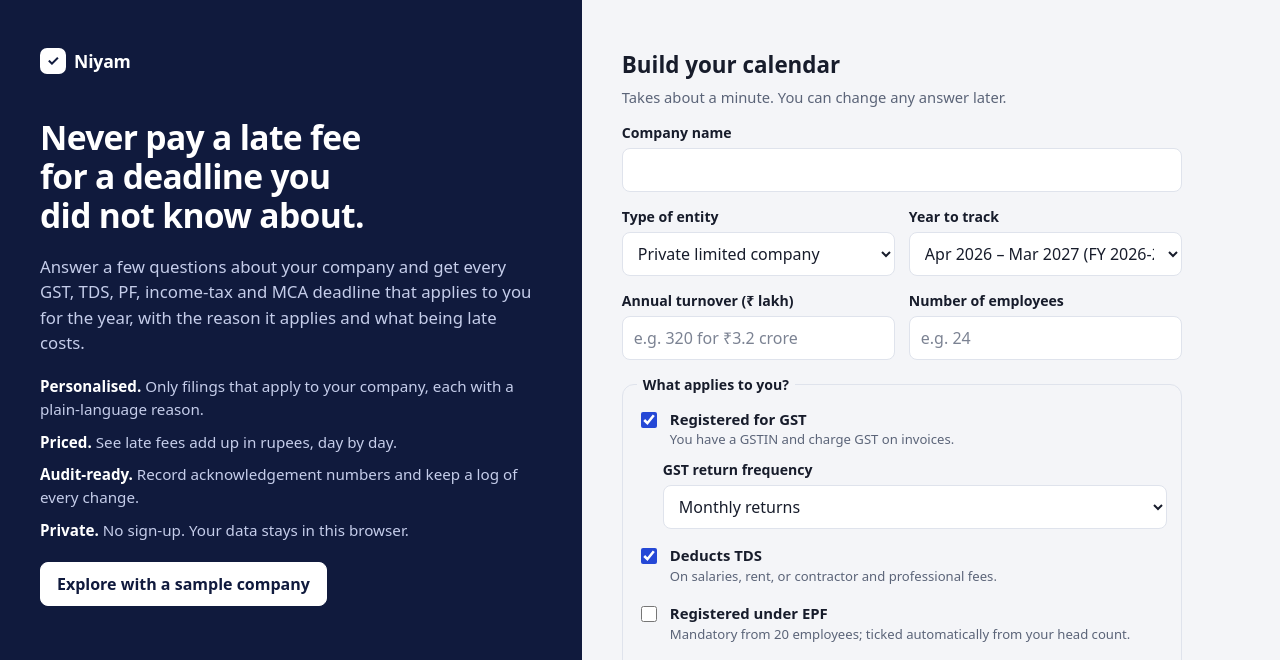
onboarding › shows past deadlines as overdue when the user opts out of backfilling
Type "Acme Pvt Ltd" into the field labelled "Company name" at (902, 170), box top-left (622, 148), bottom-right (1182, 192)
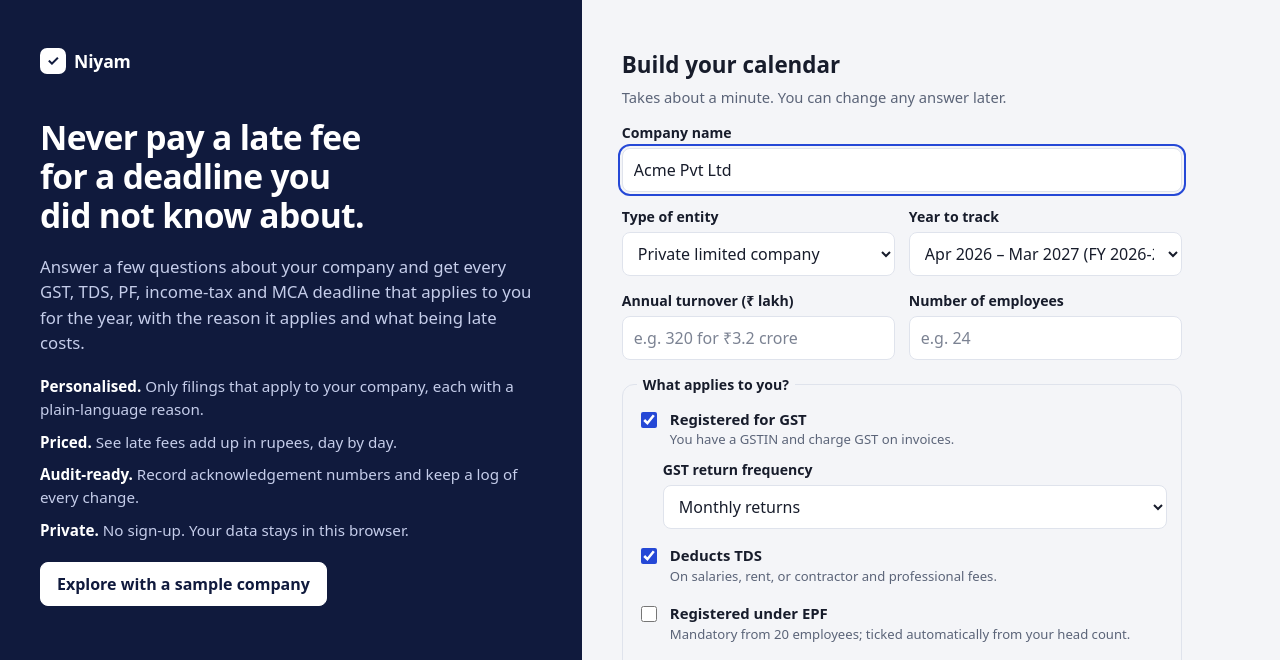
Type "320" into the number field labelled "Annual turnover (₹ lakh)" at (758, 338), box top-left (622, 316), bottom-right (895, 360)
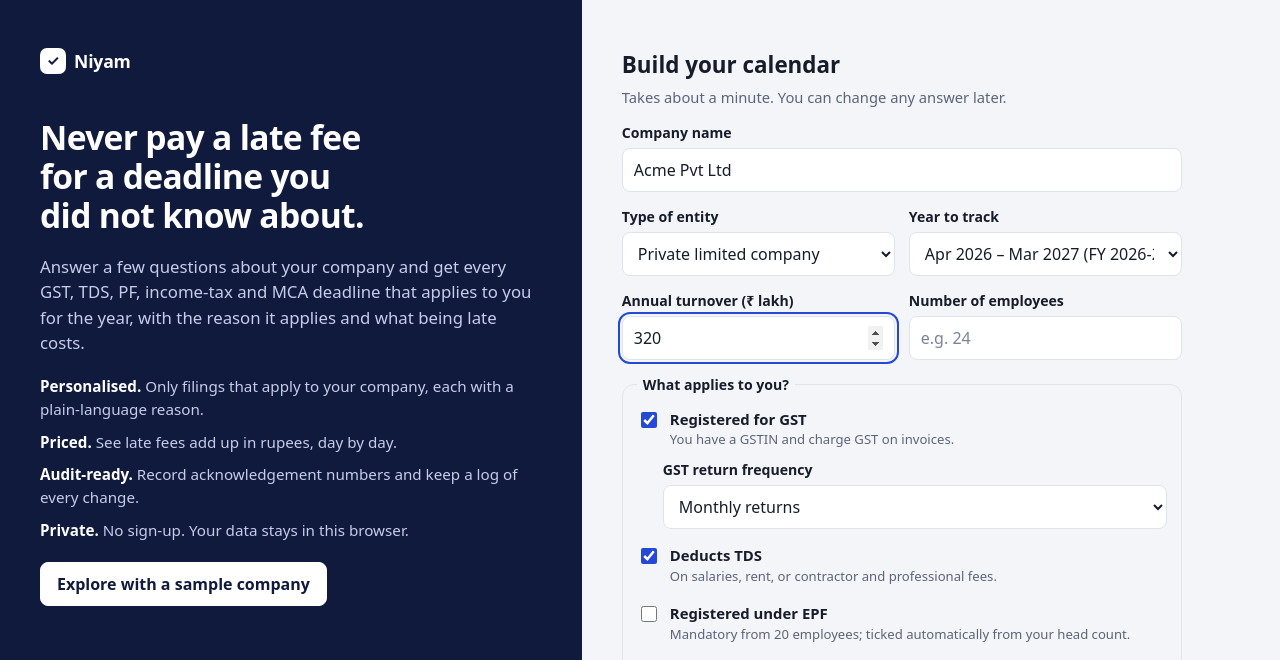
Type "24" into the number field labelled "Number of employees" at (1045, 338), box top-left (909, 316), bottom-right (1182, 360)
(page scrolled)
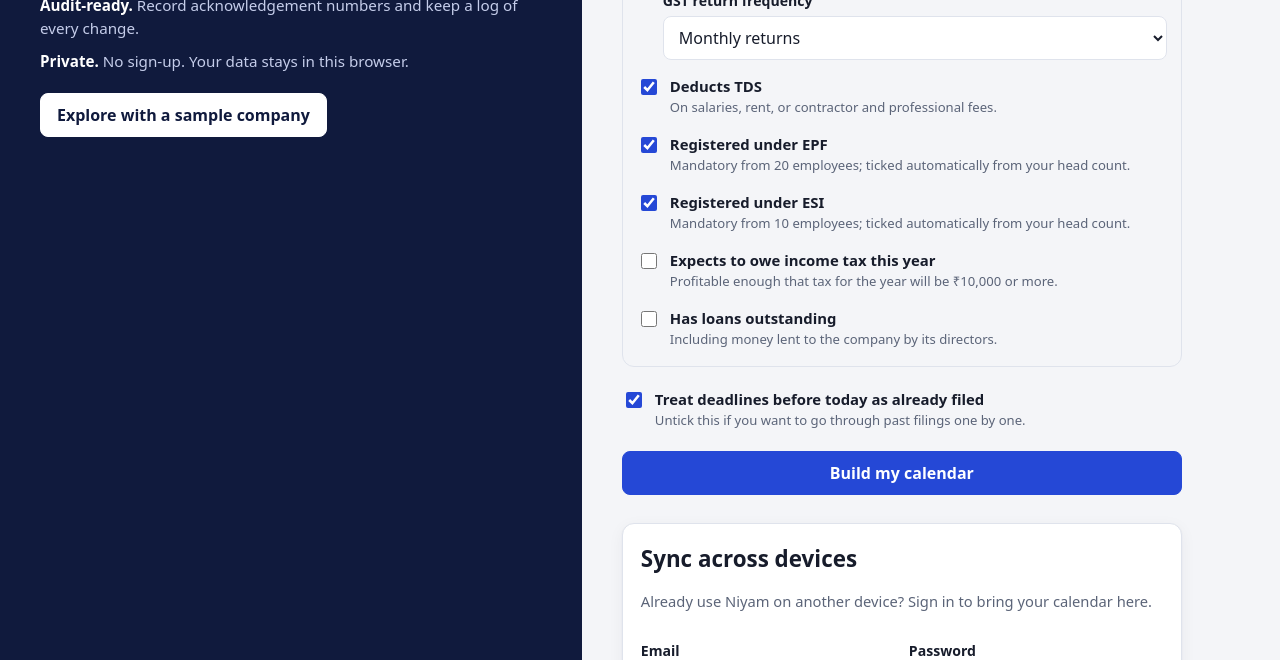
Click the checkbox labelled "Treat deadlines before today as already filed" at (634, 400), box top-left (626, 392), bottom-right (642, 408)
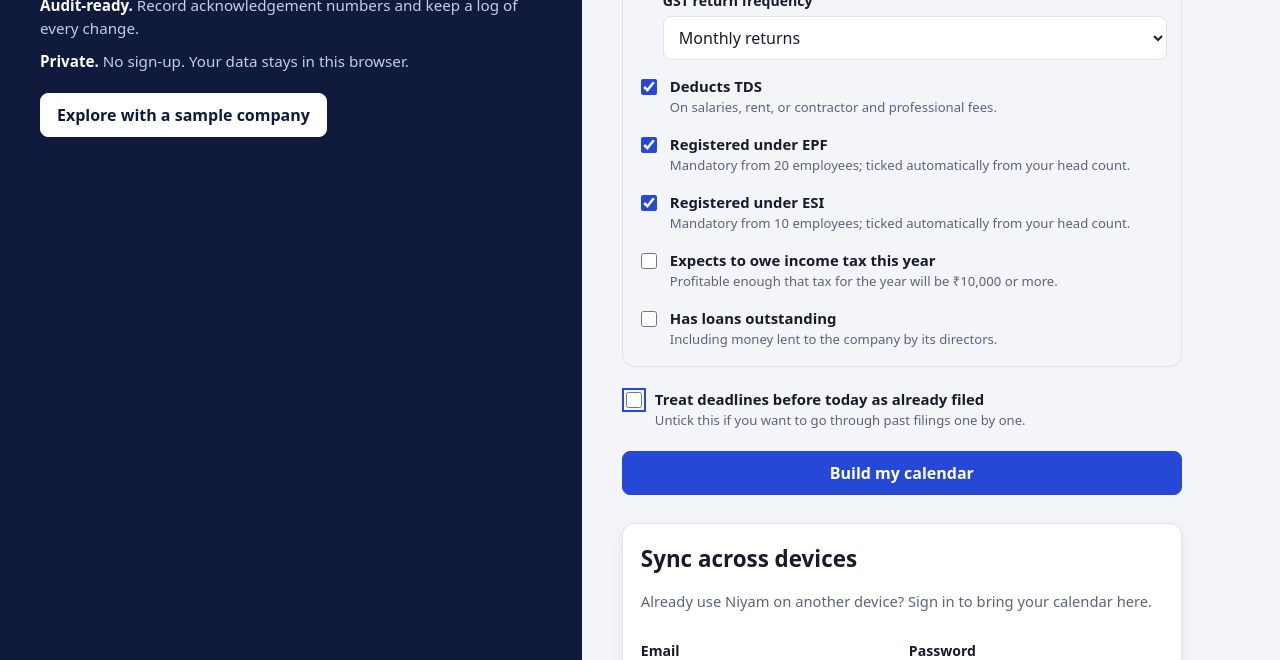
Click the button "Build my calendar" at (902, 473), box top-left (622, 451), bottom-right (1182, 495)
(page scrolled)
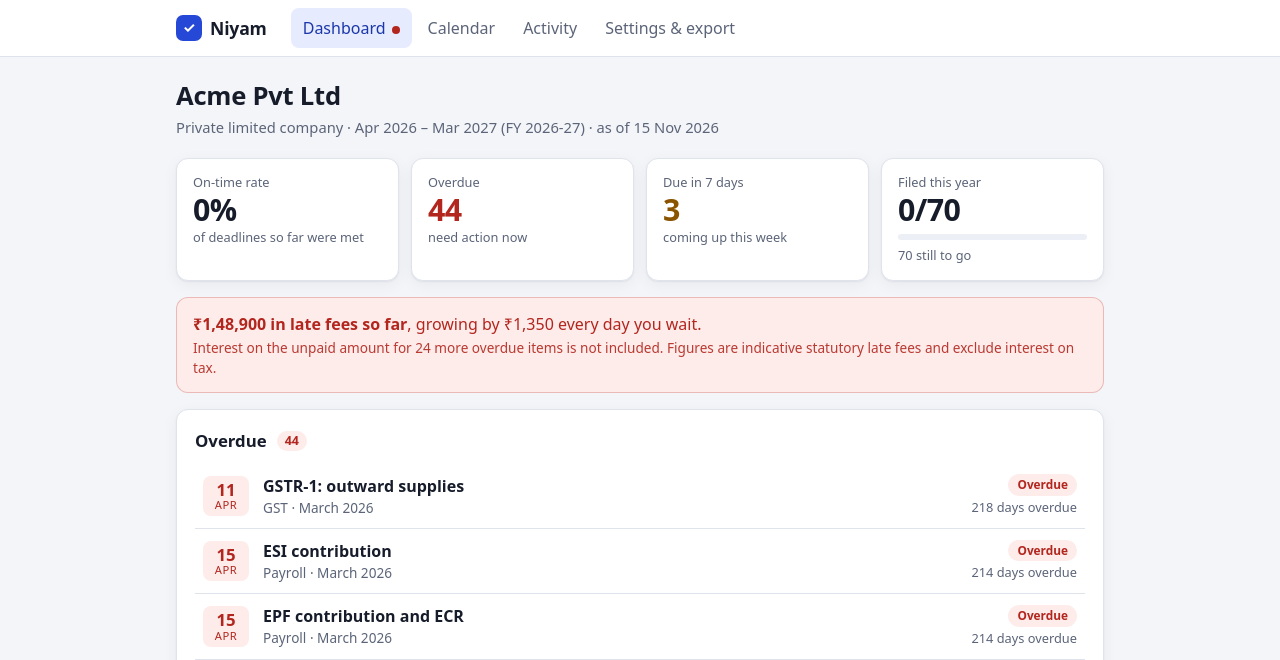
Result: the text "₹1,48,900 in late fees so far" is shown at top-left (193, 313), bottom-right (407, 335)
